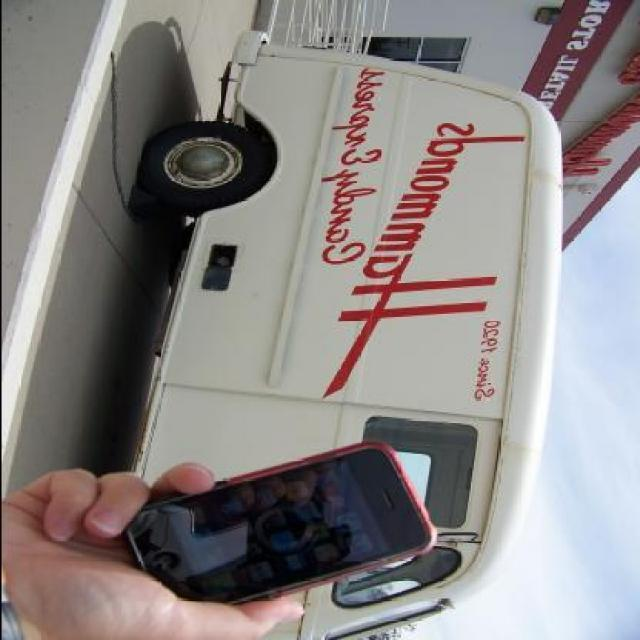phone: (101, 435, 473, 617)
